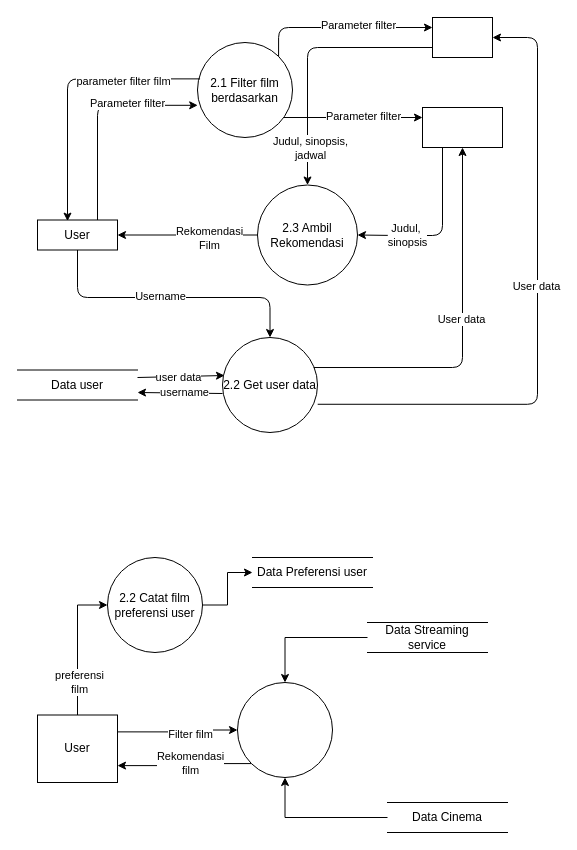
Some shapes in this 577 by 850 pixel diagram are drawn without their labels. Each missing label, with the centre of its shape:
2.1 Ambil Rekomendasi film: the point at 284,730
Cinema: the point at 462,37
Streaming service: the point at 462,127
